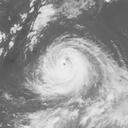cyclone: (38, 38, 98, 96)
